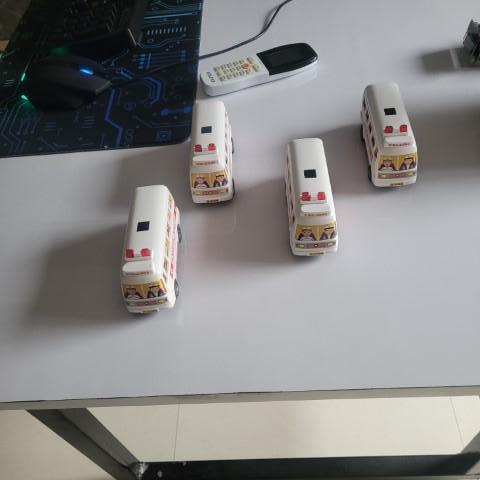ambulance: (114, 179, 186, 318), (279, 130, 343, 262), (357, 75, 421, 194), (182, 99, 239, 206)
